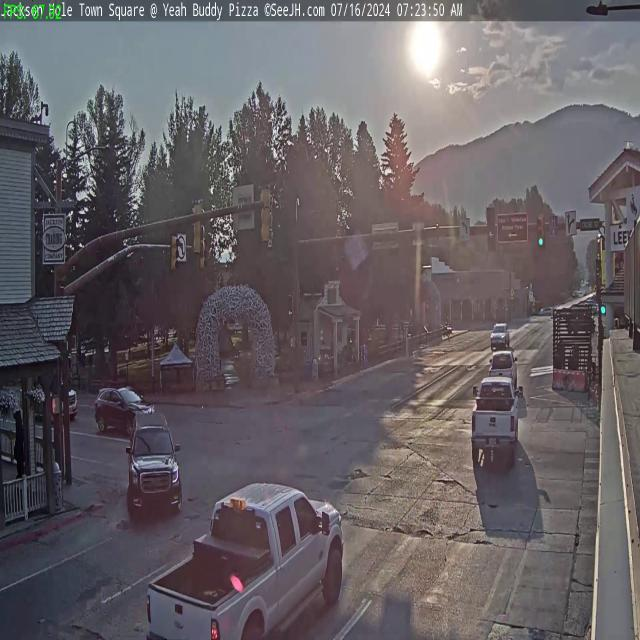pickup: (468, 374, 518, 456), (490, 347, 520, 388)
suv: (142, 476, 345, 639), (126, 418, 183, 522), (94, 384, 153, 436), (490, 321, 509, 348)
traffic light: (190, 200, 204, 256), (260, 184, 272, 246), (170, 231, 180, 274), (487, 207, 496, 252), (537, 215, 545, 247)
